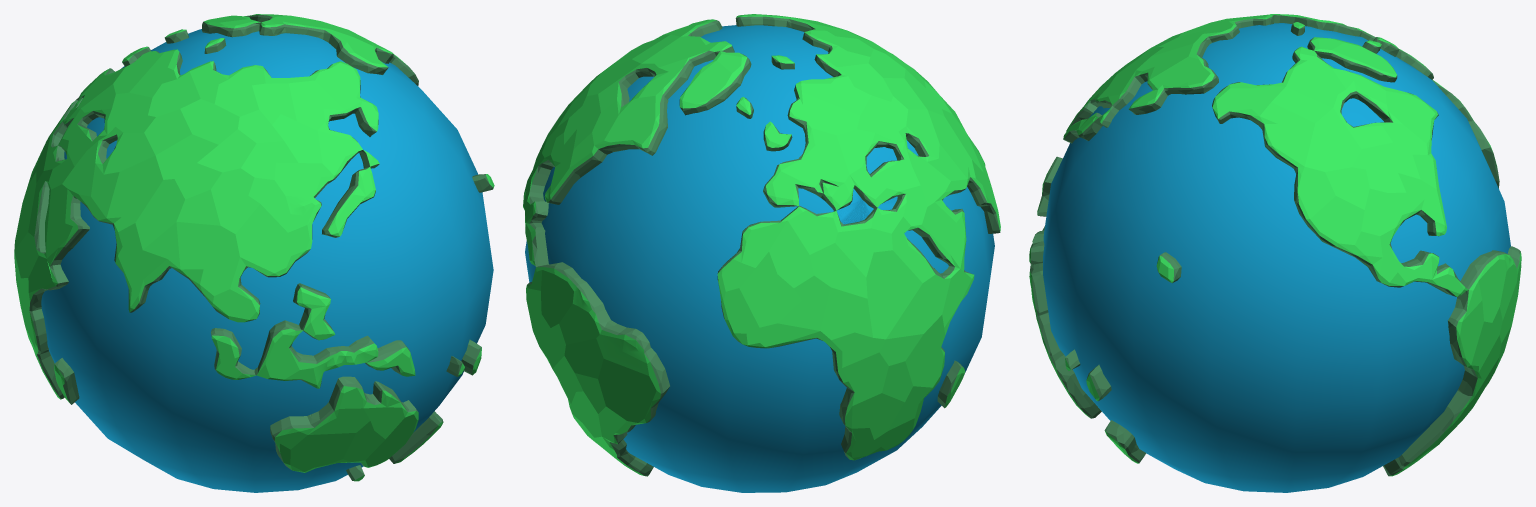
File: LowPolyEarthNew.fbx
3 views of the same model, side by side, from view 1: azimuth 30°, elevation 25°; view 2: azimuth 150°, elevation 25°; view 3: azimuth 270°, elevation 25° (orthographic).
Parts seen in each view (by area): view 1: Water, Earth2, Earth; view 2: Earth2, Water, Earth; view 3: Water, Earth2, Earth.
Part boxes in pixels (bbox=[...]): Water: bbox=[41, 29, 493, 492]; Earth2: bbox=[14, 14, 494, 481]; Earth: bbox=[29, 14, 492, 480]; Earth2: bbox=[523, 14, 1000, 476]; Water: bbox=[525, 25, 994, 492]; Earth: bbox=[527, 16, 1000, 476]; Water: bbox=[1043, 23, 1510, 492]; Earth2: bbox=[1029, 14, 1521, 476]; Earth: bbox=[1030, 15, 1520, 476].
Bounding box in the file's own units: 205 × 205 × 211.
